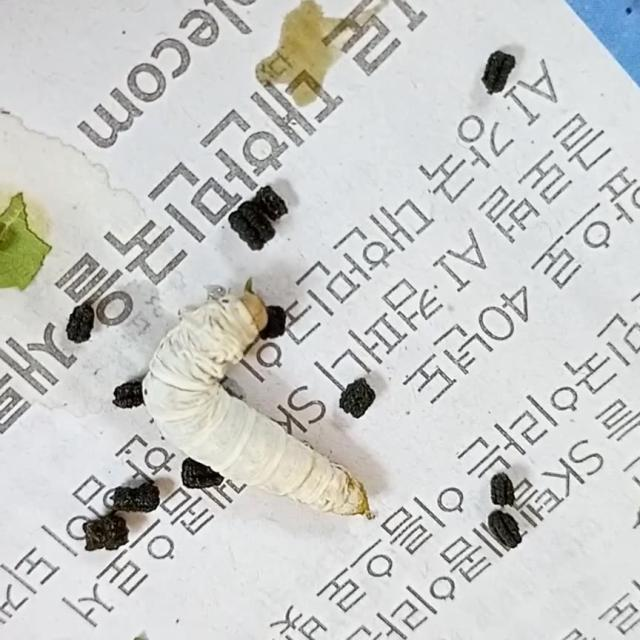Grasserie: (116, 251, 401, 546)
